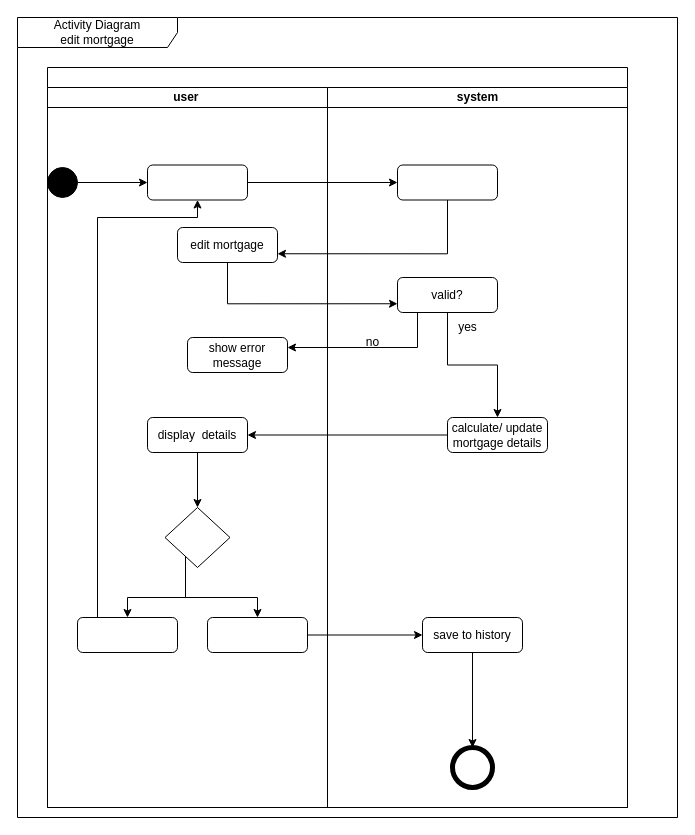
Some shapes in this 695 by 835 pixel diagram are drawn without their labels. Here are the shapes that lost their labels. From the top down, the centre of each, then its label:
At pixel 197 182: "edit mortgage details".
At pixel 447 182: "prompts mortgage information".
At pixel 127 634: "cancel update".
At pixel 257 634: "save calculation".
